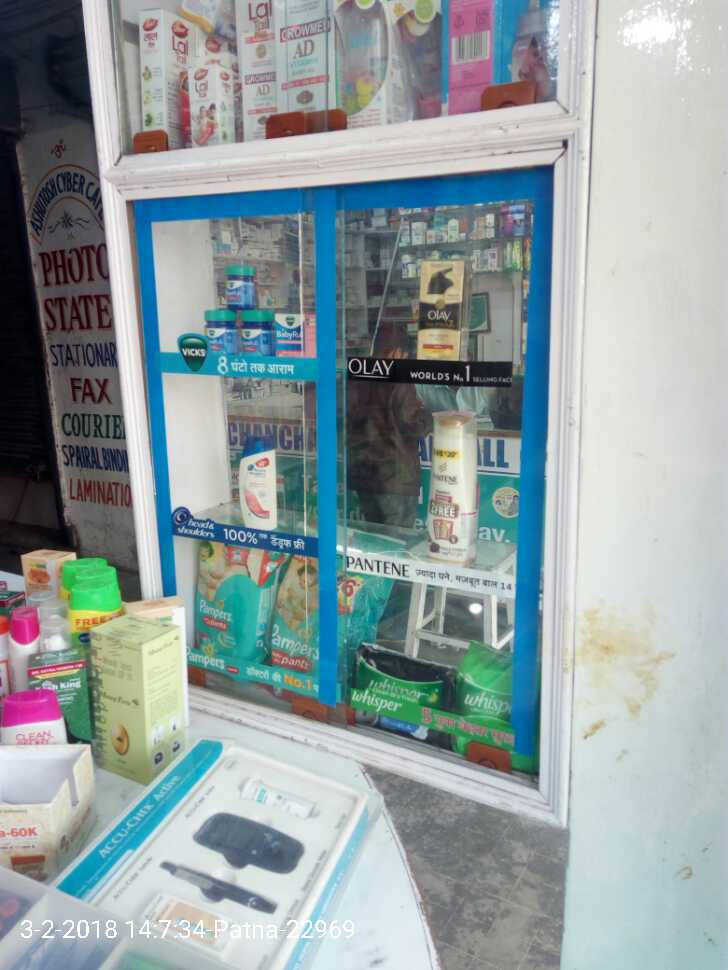beauty: (412, 396, 478, 567), (406, 247, 464, 368), (232, 432, 280, 531)
pharmacy: (181, 541, 268, 676), (352, 645, 445, 730), (268, 544, 314, 694), (452, 650, 509, 723), (215, 258, 267, 303), (272, 307, 313, 360), (203, 302, 236, 358), (240, 303, 269, 351)
